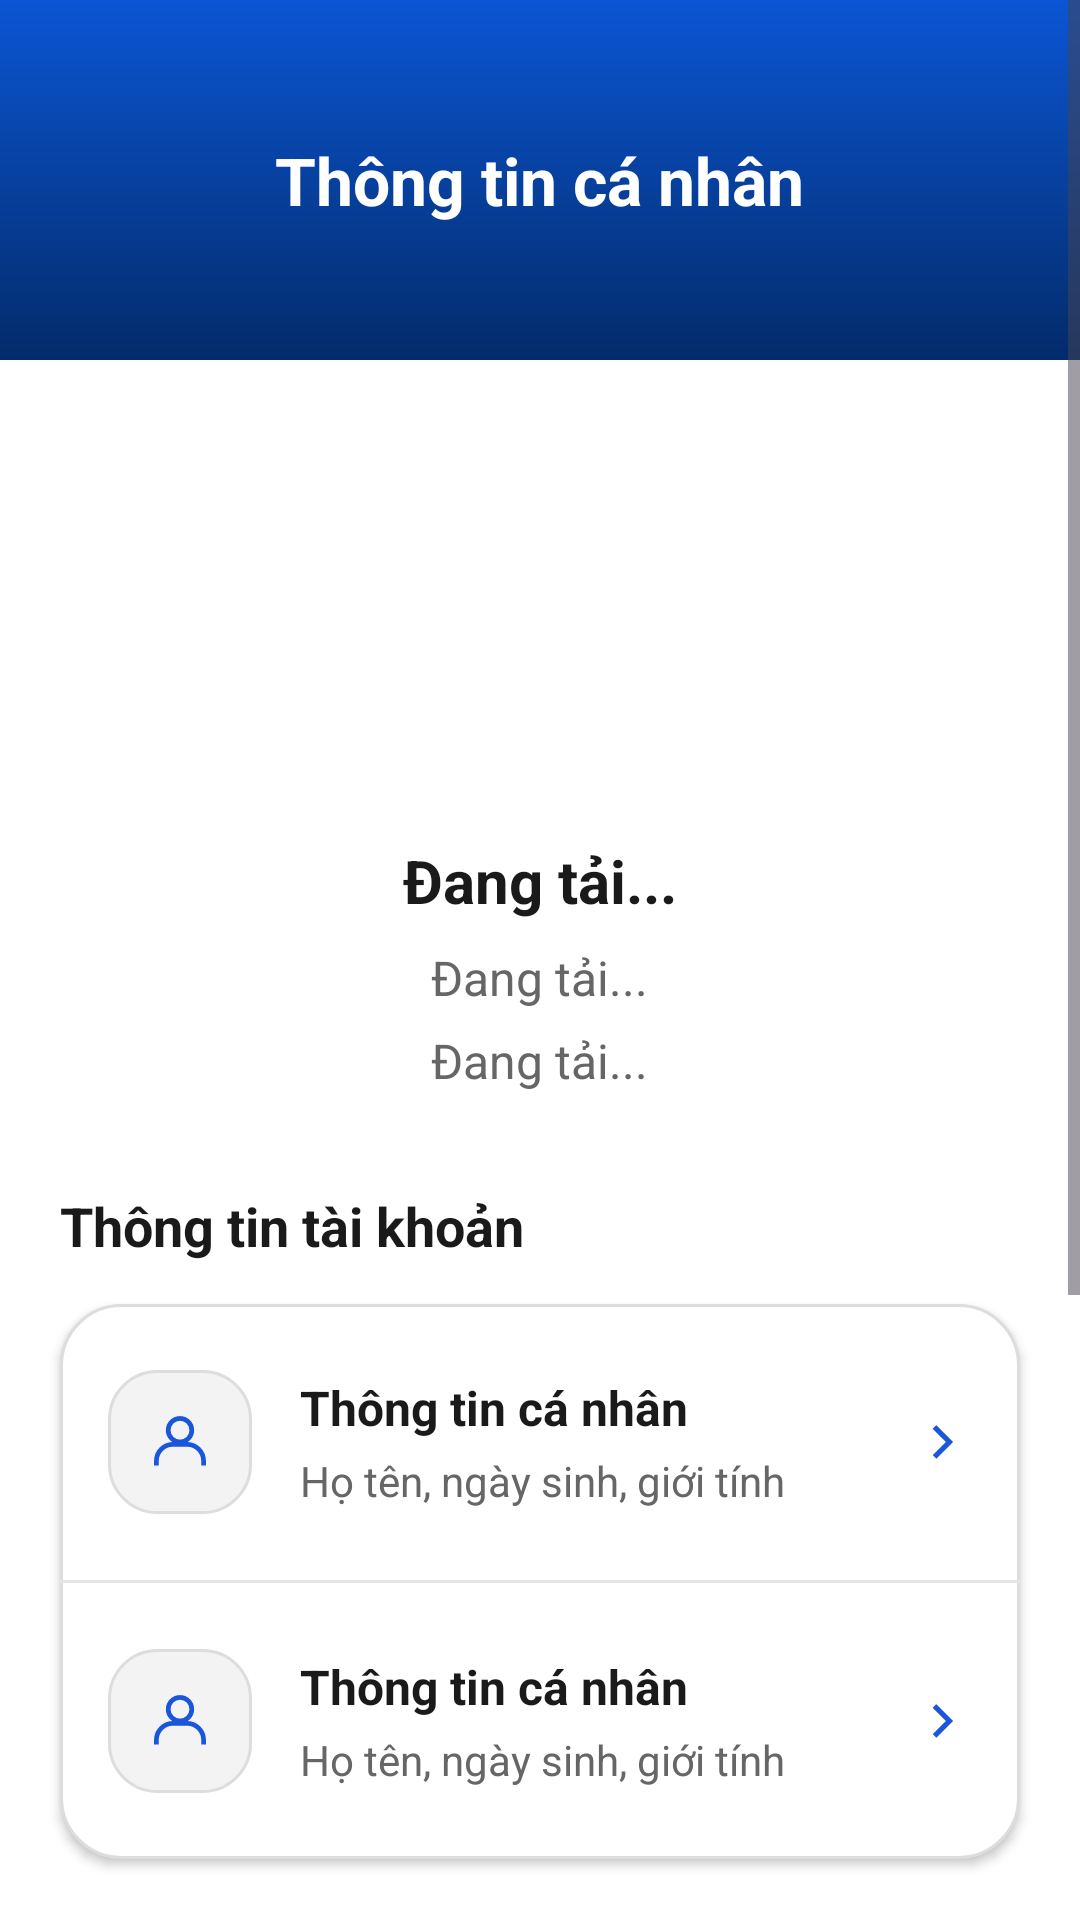

Icon bounding boxes for this 1080 x 1920 phone screenshot, format [x1=x1, y1=y1, x2=x2, y2=y2]:
arrow: [x1=932, y1=1425, x2=953, y2=1459], [x1=932, y1=1704, x2=953, y2=1738]
user: [x1=154, y1=1416, x2=206, y2=1466], [x1=154, y1=1695, x2=206, y2=1745]
